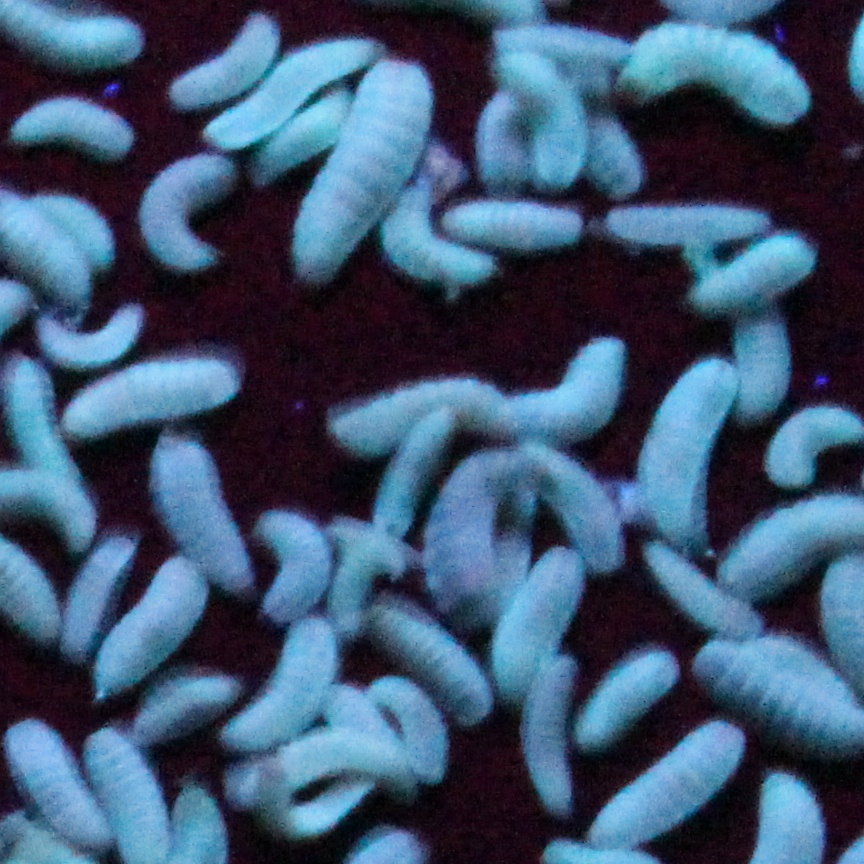larve: (293, 62, 426, 272), (612, 734, 748, 848), (230, 35, 369, 144), (639, 368, 725, 541), (489, 51, 598, 184), (153, 436, 247, 585), (385, 172, 491, 299), (98, 566, 208, 688), (74, 356, 237, 438), (523, 447, 631, 570), (238, 626, 342, 743), (622, 33, 798, 102), (370, 599, 488, 700), (6, 723, 99, 844), (428, 449, 509, 587), (500, 553, 584, 684), (141, 152, 228, 275), (316, 391, 514, 441), (231, 746, 420, 798), (170, 10, 272, 104), (587, 651, 684, 748), (654, 548, 755, 641), (445, 199, 590, 261), (690, 245, 820, 314), (61, 535, 136, 652), (518, 358, 634, 431), (2, 96, 134, 158), (252, 511, 327, 620), (597, 203, 771, 249), (139, 672, 241, 745), (245, 773, 373, 831), (10, 366, 72, 480), (533, 659, 574, 814), (377, 685, 451, 765), (380, 435, 437, 530), (39, 316, 139, 361)
